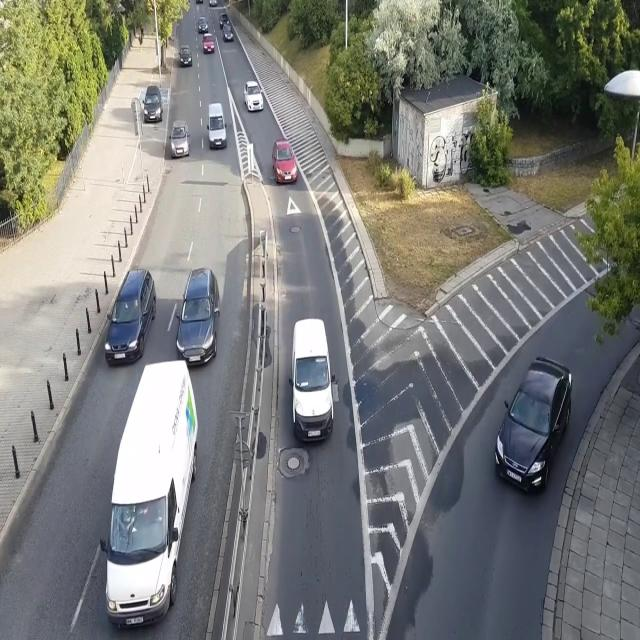car: (494, 355, 574, 496), (104, 269, 156, 363), (175, 268, 221, 366), (272, 139, 298, 184), (168, 120, 190, 159), (142, 86, 163, 123), (243, 80, 264, 112), (178, 45, 192, 67), (202, 33, 215, 54), (222, 24, 234, 42), (197, 16, 209, 34), (219, 13, 229, 30), (209, 0, 218, 8)
van: (100, 360, 198, 628), (288, 318, 336, 443), (207, 102, 227, 150)
